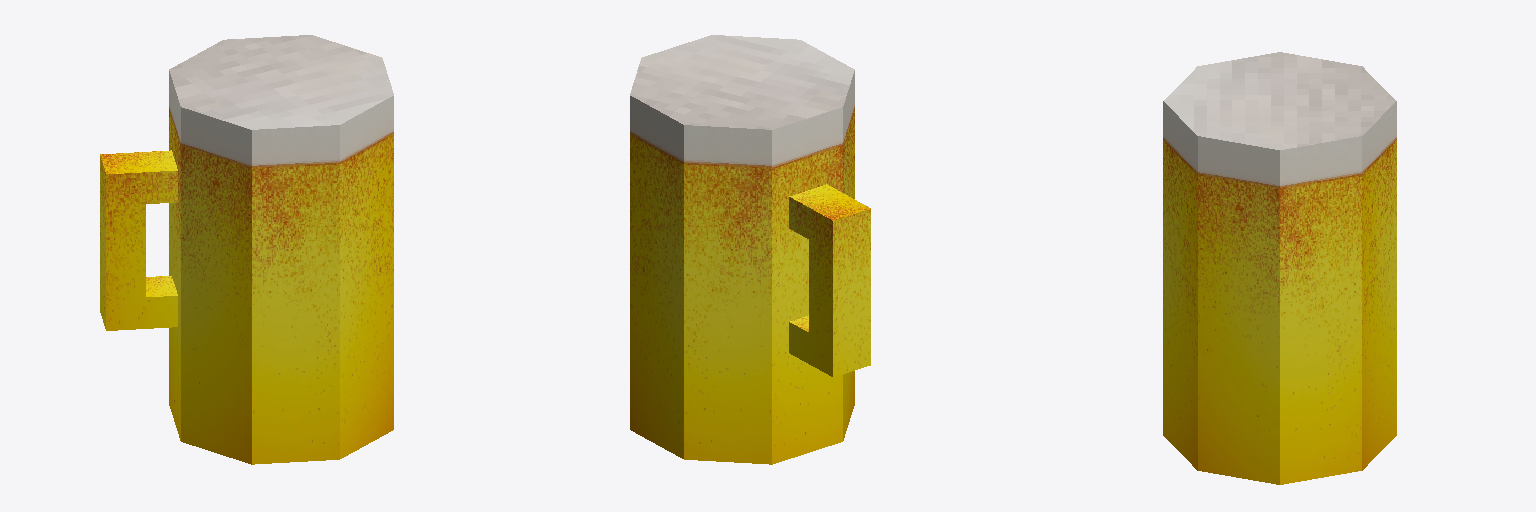
The picture shows the model from 3 angles: view 1: azimuth 30°, elevation 25°; view 2: azimuth 150°, elevation 25°; view 3: azimuth 270°, elevation 25°; orthographic projection.
Visible parts, largest first — view 1: Cylinder; view 2: Cylinder; view 3: Cylinder.
Boxes of the visible parts, x1=… form: Cylinder: x1=100, y1=35, x2=393, y2=464; Cylinder: x1=630, y1=35, x2=870, y2=464; Cylinder: x1=1163, y1=52, x2=1396, y2=484.
Bounding box in the file's own units: 0.7648 × 0.9662 × 0.6096.
Materials: 1 (1 with a texture image).